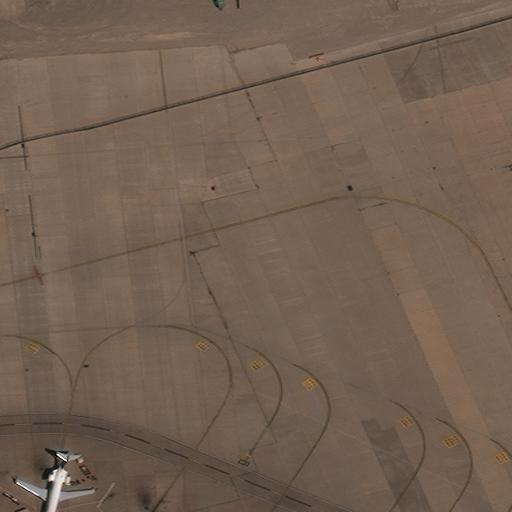Medium Civil Transport: (15, 453, 94, 511)
